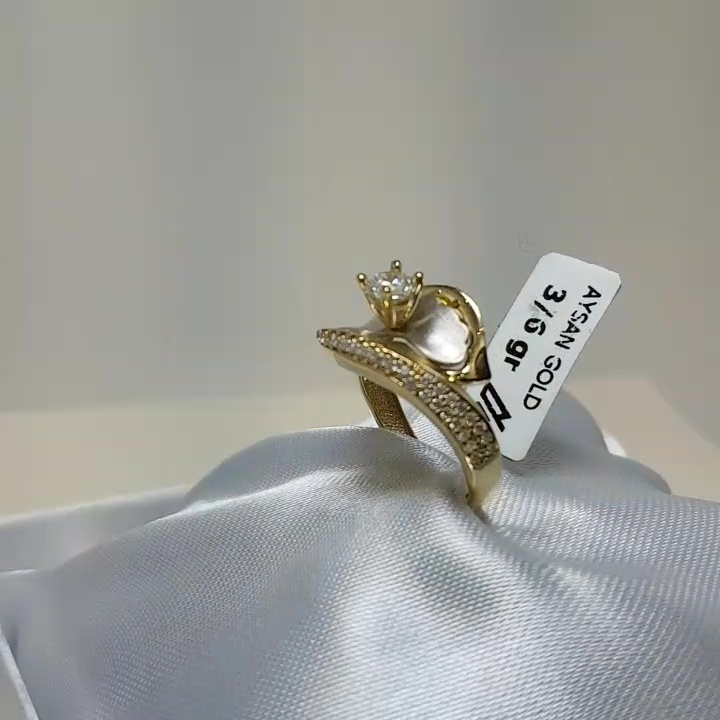Ring 6: (289, 248, 535, 530)
